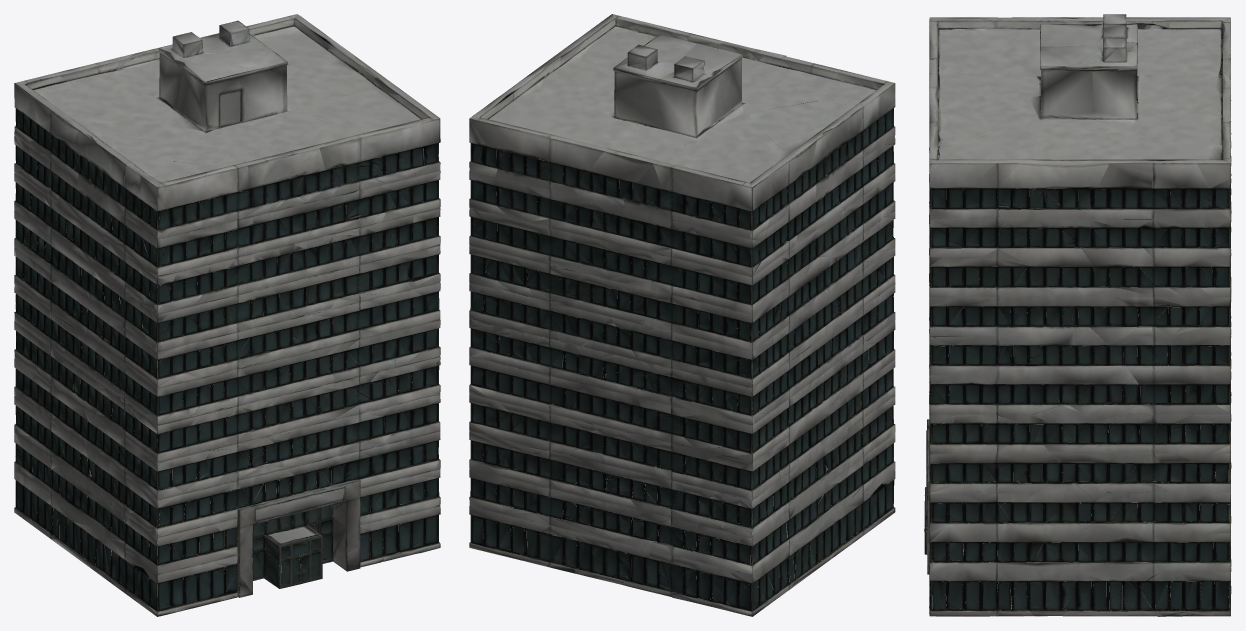
Rendered from tower-01-glass-office.glb.
3 renders of one model, left to right at view 1: azimuth 30°, elevation 25°; view 2: azimuth 150°, elevation 25°; view 3: azimuth 270°, elevation 25°, orthographic. The views are drawn at different scales.
Visible parts, largest first — view 1: geometry_0; view 2: geometry_0; view 3: geometry_0.
Boxes of the visible parts, box(x1,y1,x2,y2) form: geometry_0: box(14, 14, 440, 616); geometry_0: box(469, 14, 895, 616); geometry_0: box(924, 14, 1231, 616).
Size of the model in its own units: 1.17 by 1.9 by 1.03.
Materials: 1 (1 with a texture image).
